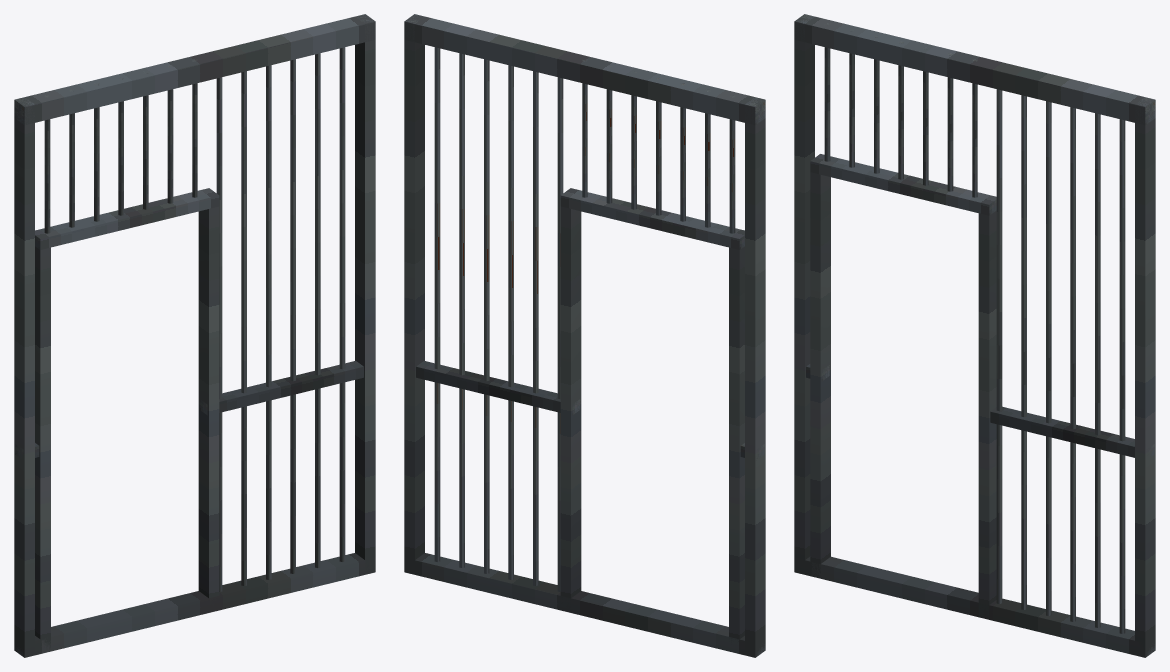
File: wall_bars_doorway.glb
3 views of the same model, side by side, from view 1: azimuth 30°, elevation 25°; view 2: azimuth 150°, elevation 25°; view 3: azimuth 330°, elevation 25° (orthographic).
Visible parts, largest first — view 1: wall_bars_doorway; view 2: wall_bars_doorway; view 3: wall_bars_doorway.
Boxes of the visible parts, x1,y1,x2,y2 form: wall_bars_doorway: (14,14,375,657); wall_bars_doorway: (404,14,765,657); wall_bars_doorway: (794,14,1155,657).
Bounding box in the file's own units: 2 × 3 × 0.1.
Materials: 1 (1 with a texture image).
